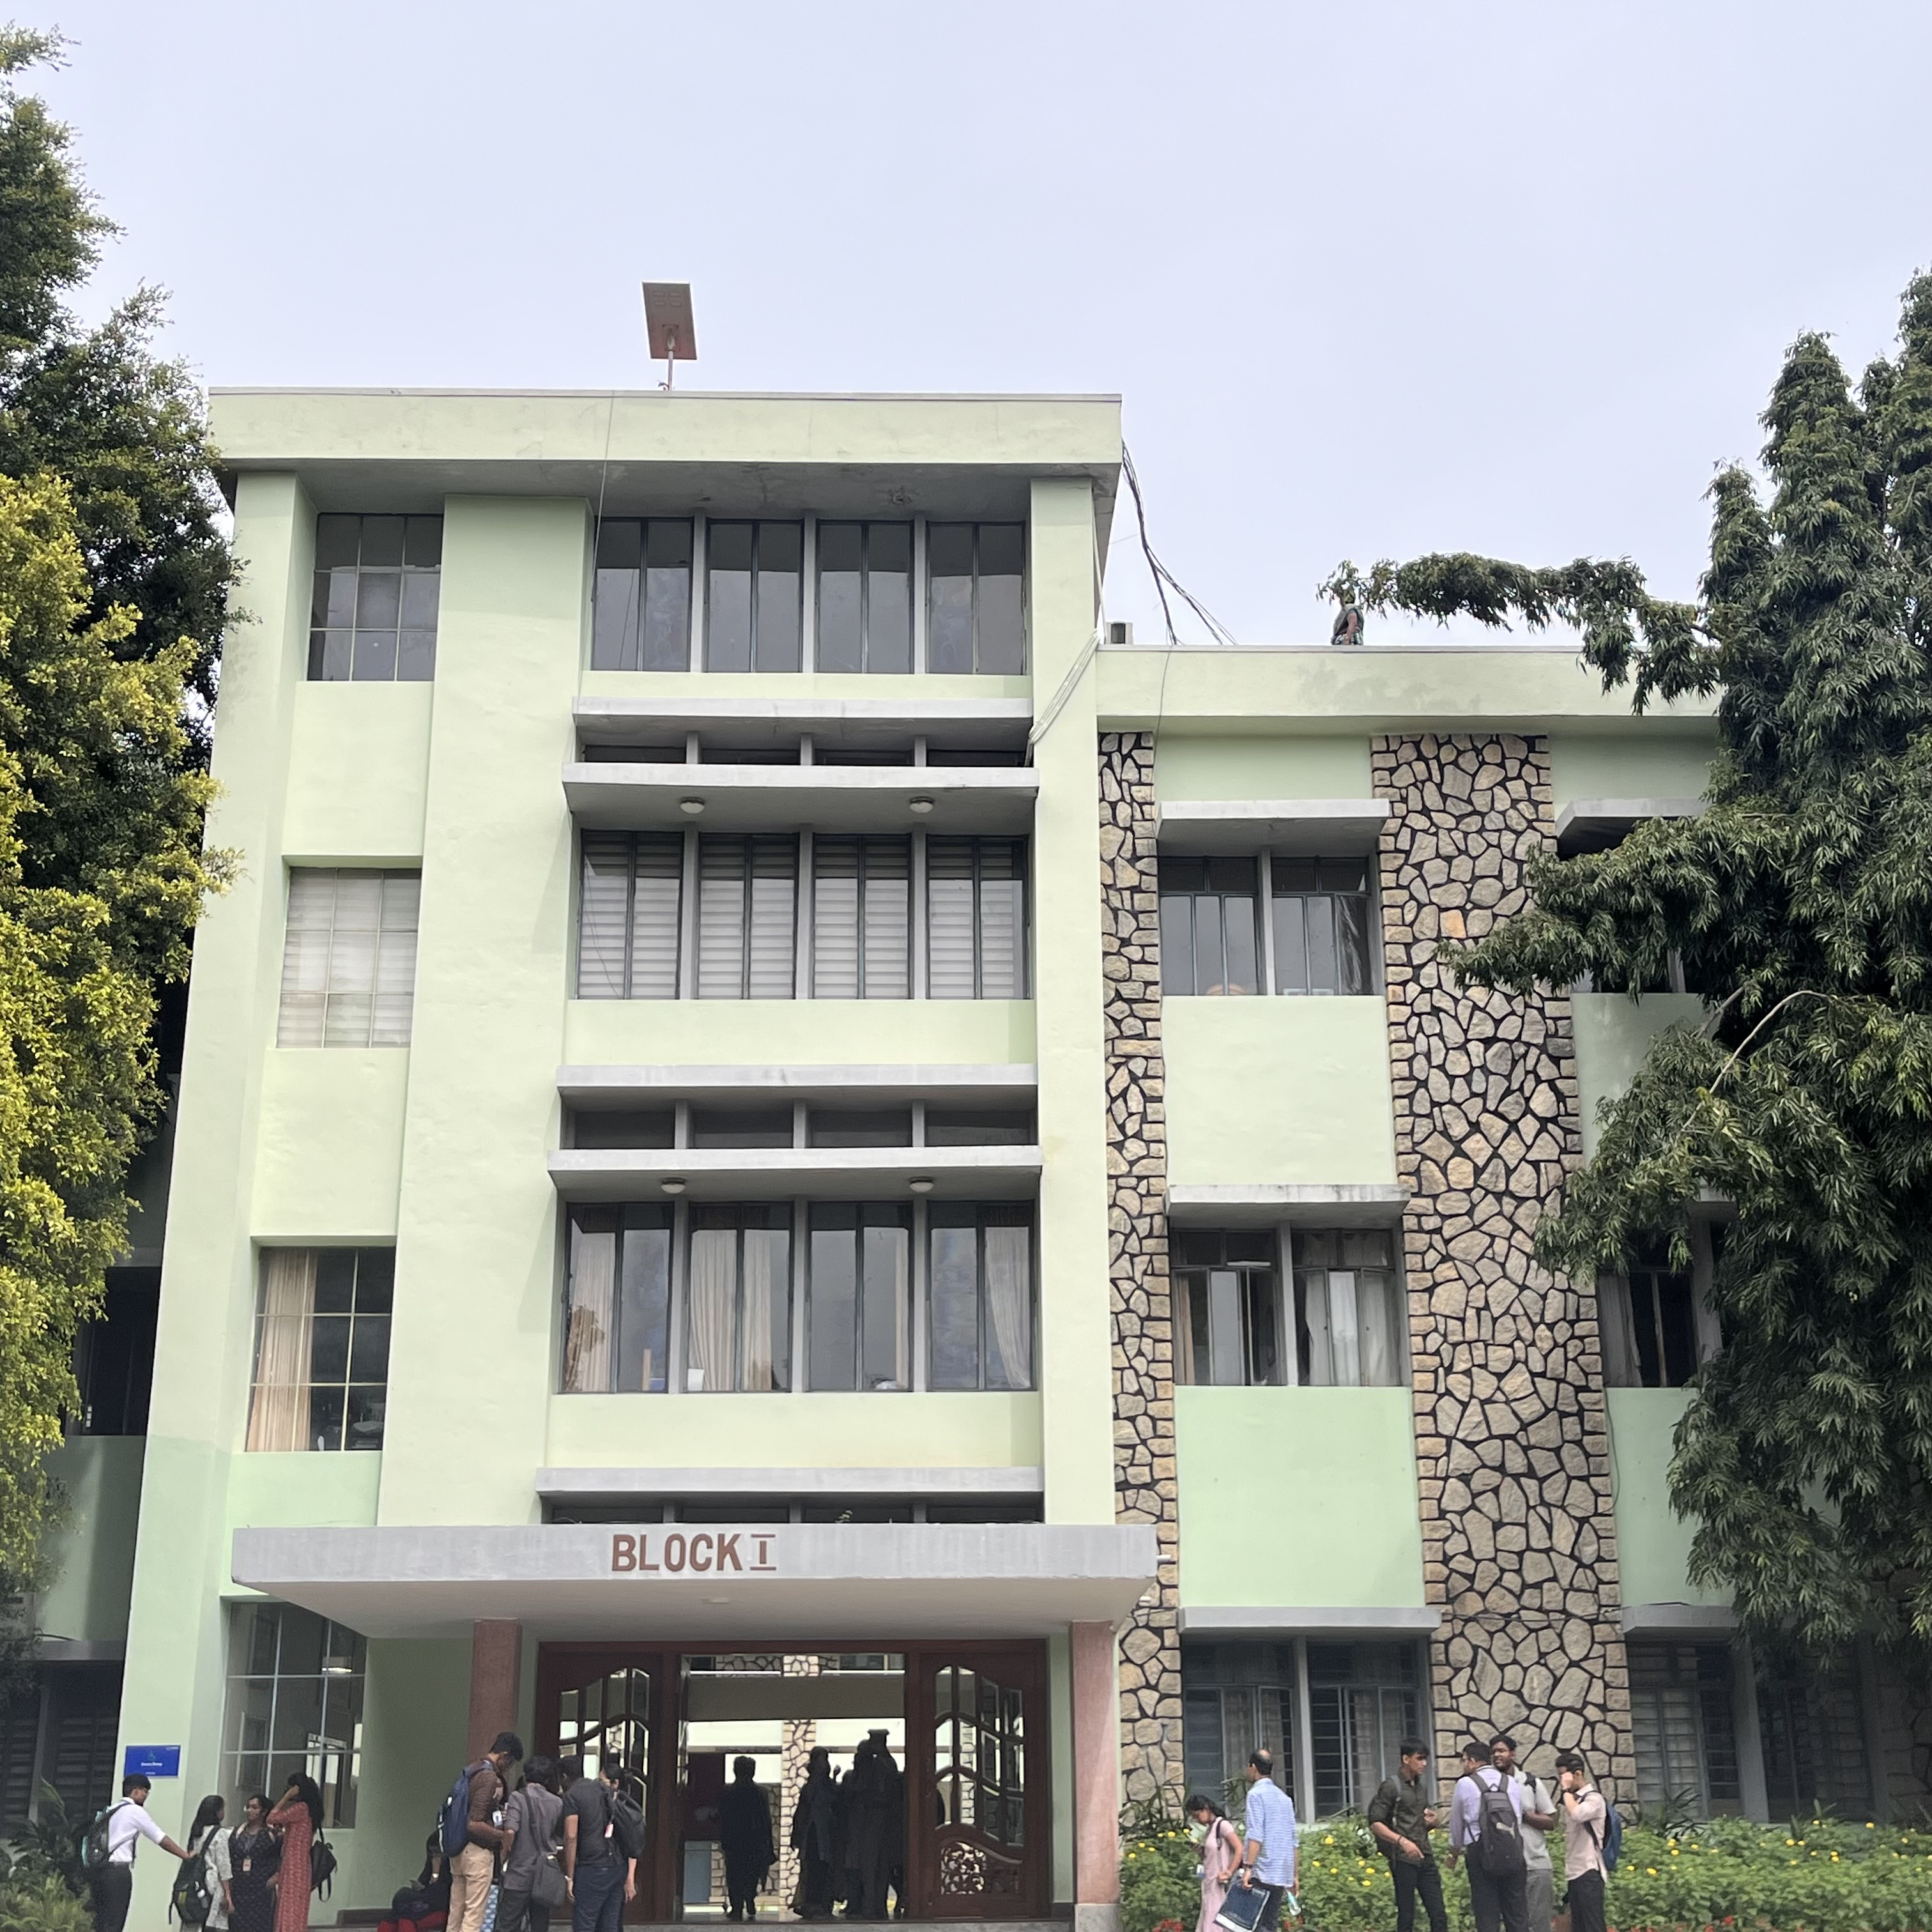Block 1: (173, 334, 1707, 1704)
